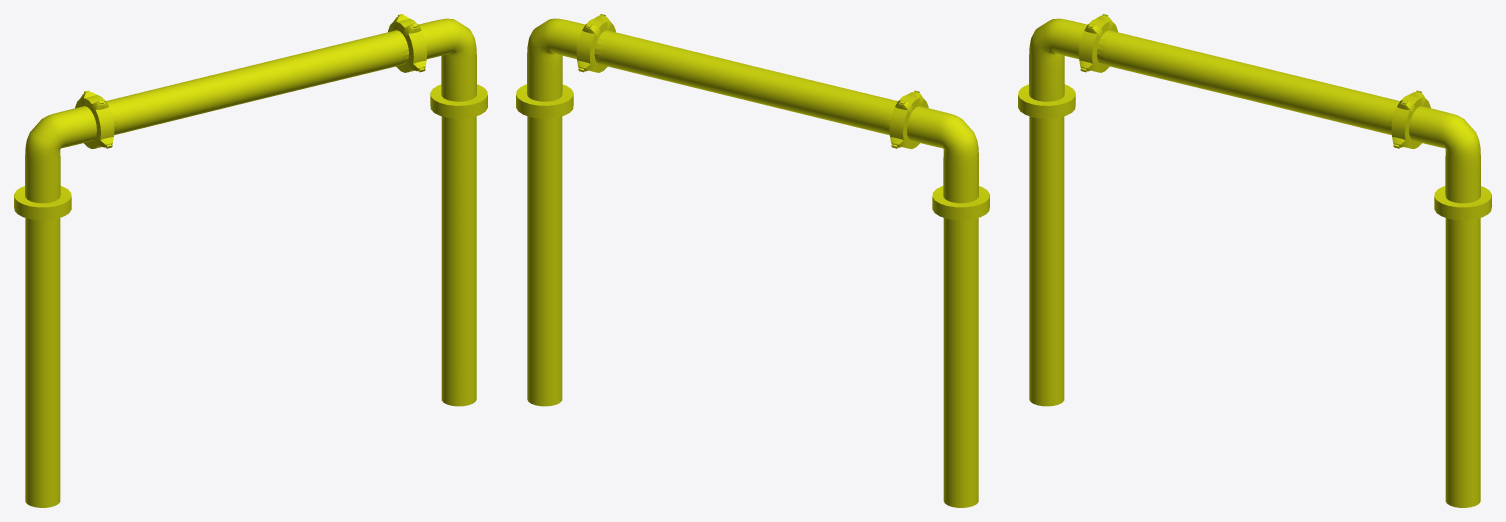
The model's file is tubefan.obj.
3 views of the same model, side by side, from view 1: azimuth 30°, elevation 25°; view 2: azimuth 150°, elevation 25°; view 3: azimuth 330°, elevation 25° (orthographic).
Parts seen in each view (by area): view 1: default; view 2: default; view 3: default.
Part boxes in pixels (x1,y1,x2,y2): default: (14, 14, 487, 507); default: (516, 14, 989, 507); default: (1018, 14, 1491, 507).
Bounding box in the file's own units: 23.25 × 18.69 × 2.68.
